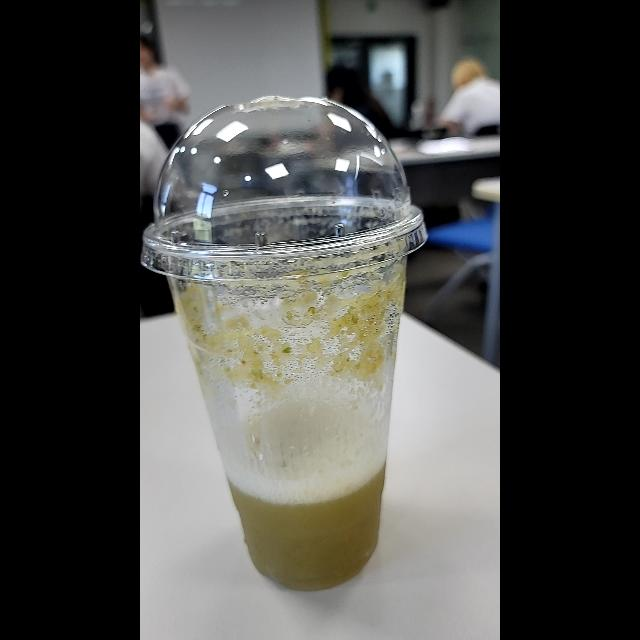plastic_cup: (140, 88, 420, 610)
plastic_cup_lid: (140, 92, 428, 292)
